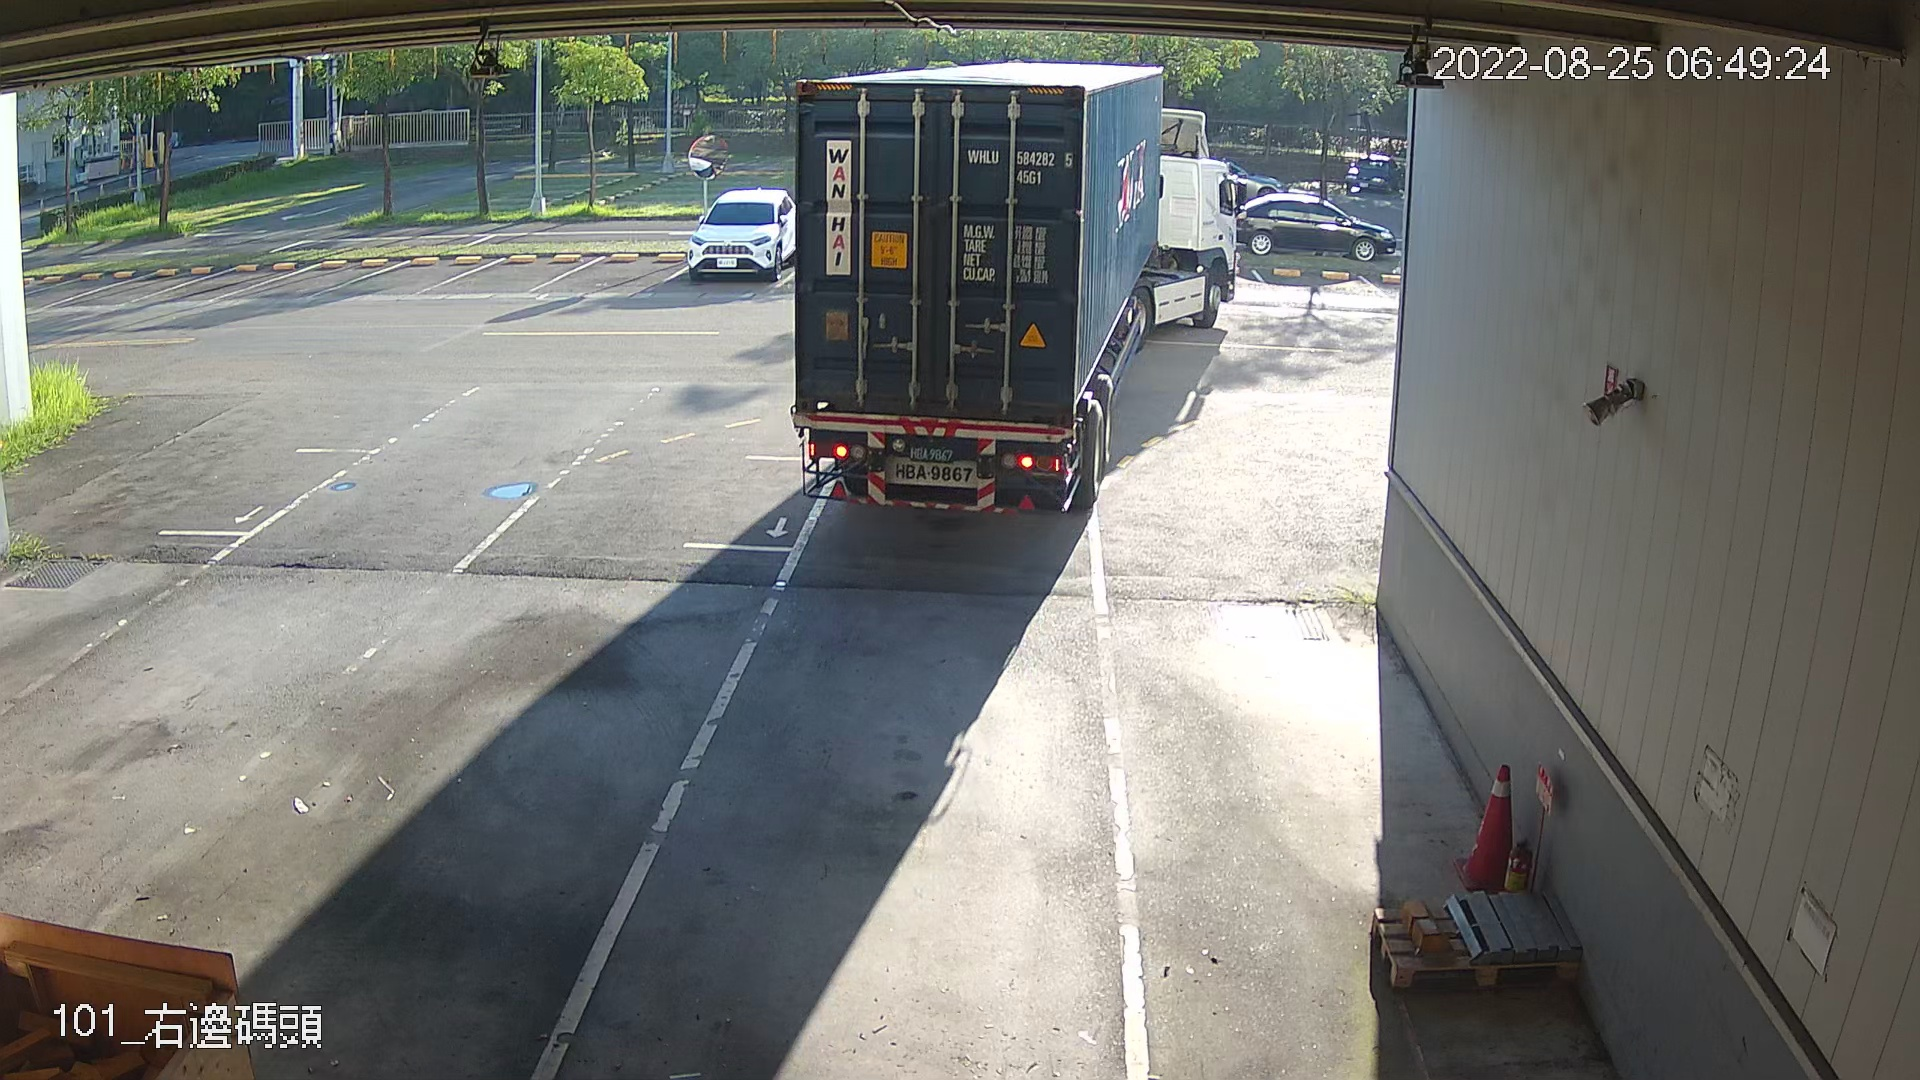container: (963, 141, 1079, 198)
